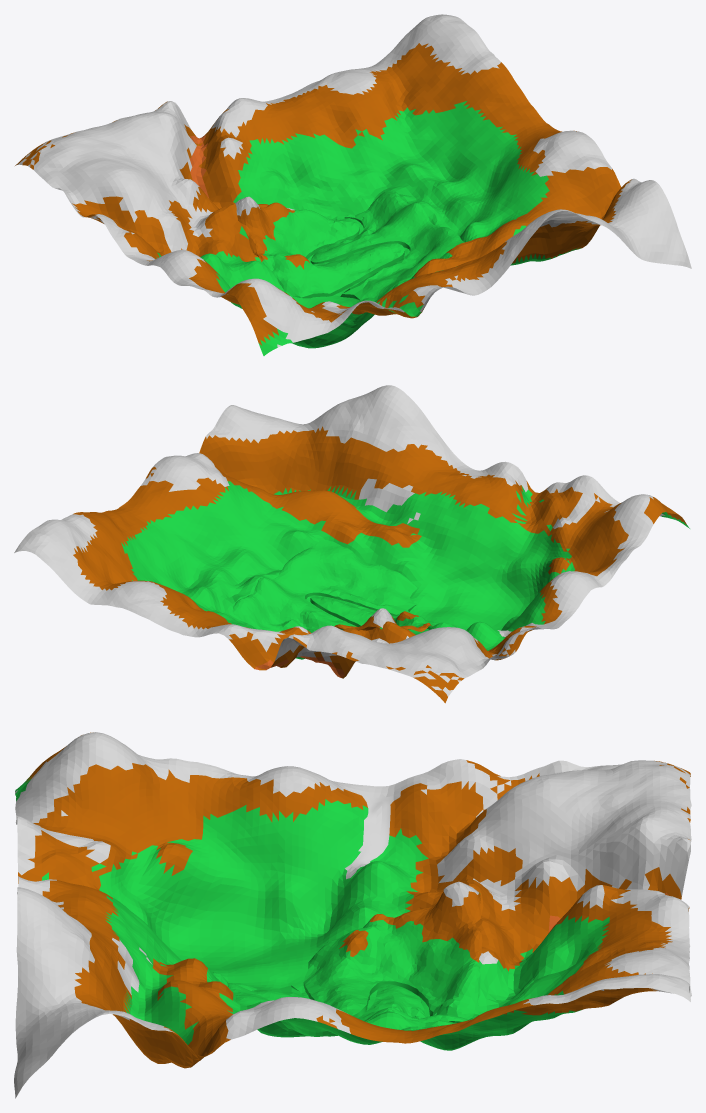
File: level1_terrain.fbx
3 renders of one model, top to bottom at view 1: azimuth 30°, elevation 25°; view 2: azimuth 150°, elevation 25°; view 3: azimuth 270°, elevation 25°, orthographic. The views are drawn at different scales.
Visible parts, largest first — view 1: terrain_outer, terrain_inner; view 2: terrain_outer, terrain_inner; view 3: terrain_outer, terrain_inner.
Part boxes in pixels (bbox=[...]): terrain_outer: bbox=[15, 14, 691, 355]; terrain_inner: bbox=[235, 191, 464, 300]; terrain_outer: bbox=[14, 385, 689, 703]; terrain_inner: bbox=[232, 540, 437, 632]; terrain_outer: bbox=[14, 732, 691, 1098]; terrain_inner: bbox=[228, 881, 482, 1022].
Bounding box in the file's own units: 19405 × 5912 × 19342.
